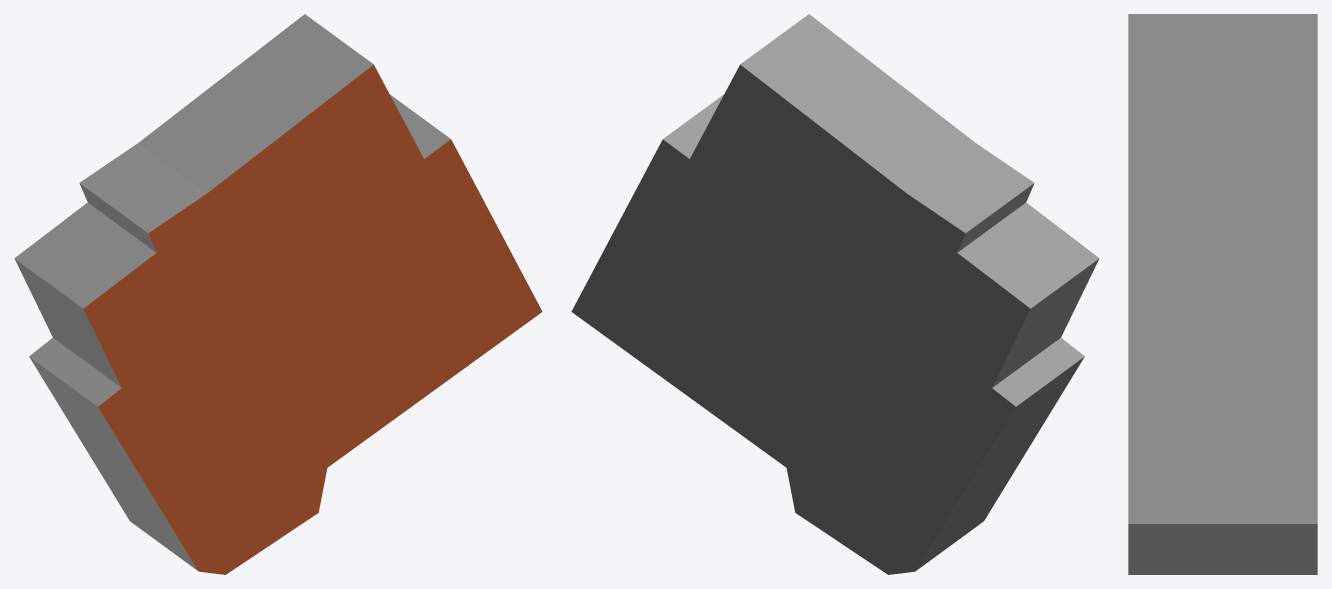
File: construction_5611_assumed_A_Casa_h6m.obj
3 renders of one model, left to right at view 1: azimuth 30°, elevation 25°; view 2: azimuth 150°, elevation 25°; view 3: azimuth 270°, elevation 25°, orthographic. The views are drawn at different scales.
Visible parts, largest first — view 1: construction_5611_assumed_A_Casa; view 2: construction_5611_assumed_A_Casa; view 3: construction_5611_assumed_A_Casa.
Boxes of the visible parts, left/top/right/bottom form: construction_5611_assumed_A_Casa: left=14, top=14, right=542, bottom=574; construction_5611_assumed_A_Casa: left=571, top=14, right=1099, bottom=574; construction_5611_assumed_A_Casa: left=1128, top=14, right=1317, bottom=574.
Bounding box in the file's own units: 23.08 × 22.78 × 6.
